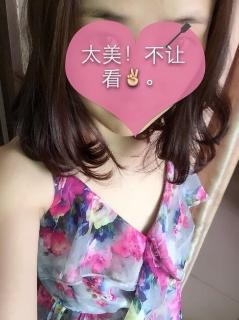sling: (37, 127, 211, 319)
